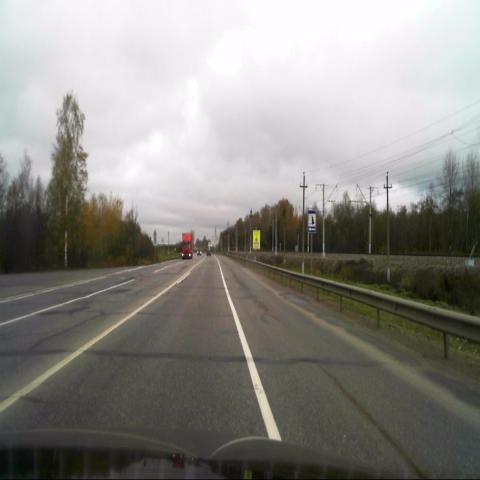7_11: (307, 210, 317, 234)
